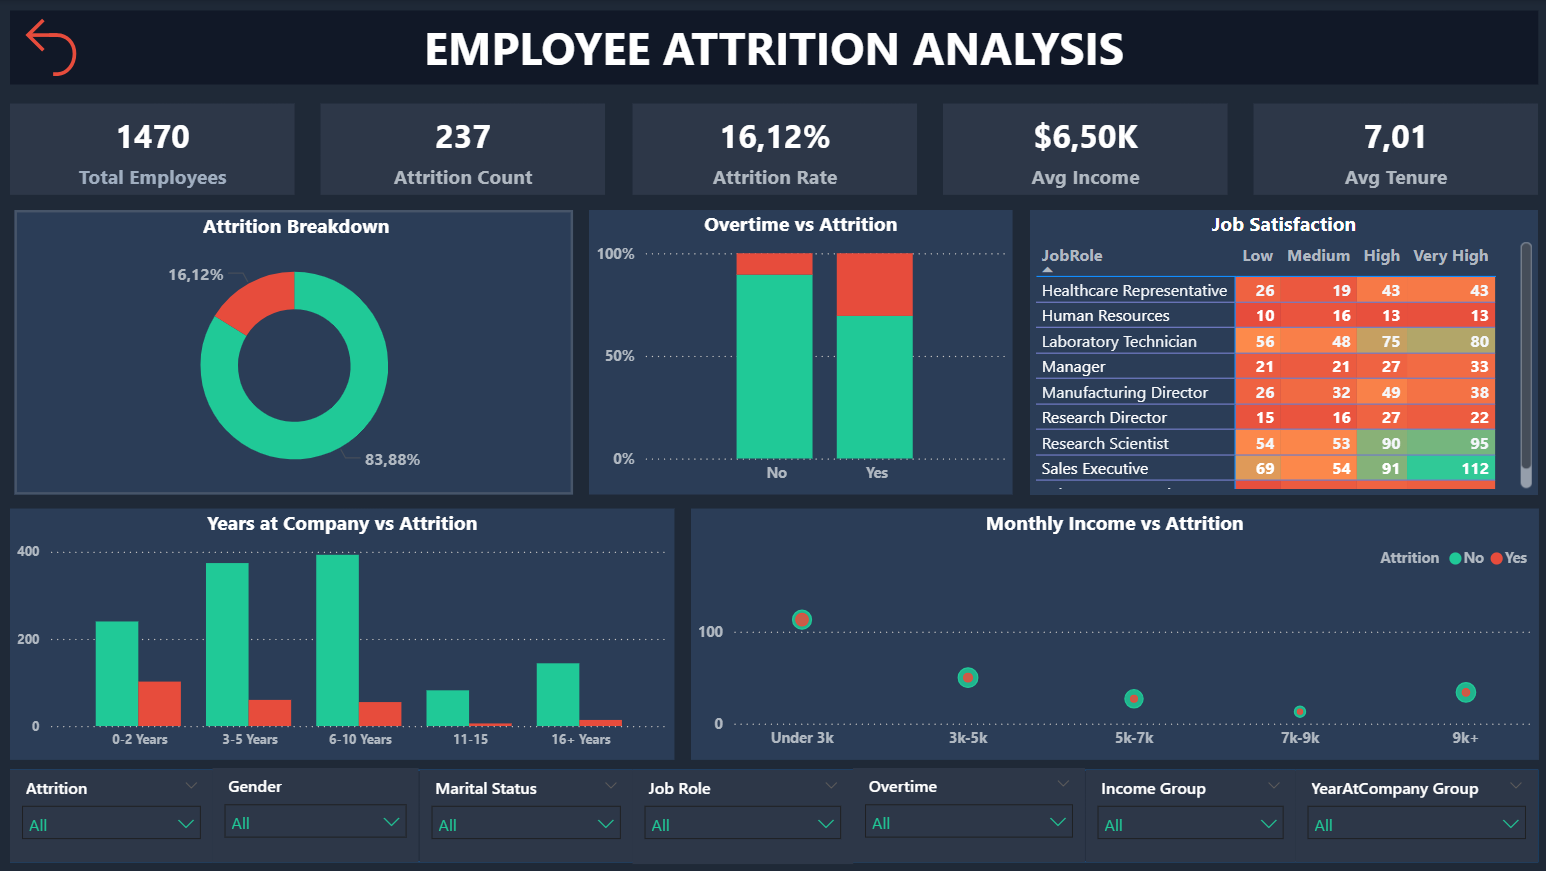

The page's visual inventory and layout, read from the dashboard file:
{"tool":"powerbi","page":{"name":"Main Dashboard","canvas":[1280,720],"ordinal":0},"visuals":[{"type":"shape","box":[9.6,634.4,1260.5,76.6],"z":0},{"type":"card","fields":{"Values":["hr_emp.Total Employees"]},"box":[9.6,85,234.6,75.4],"z":1000},{"type":"card","fields":{"Values":["hr_emp.Attrition Count"]},"box":[266.3,85,234.6,75.4],"z":2000},{"type":"donutChart","title":"Attrition Breakdown","fields":{"Y":["CountNonNull(hr_emp.Attrition)"],"Category":["hr_emp.Attrition"]},"box":[13.2,173.6,460.9,234.6],"z":3000},{"type":"card","fields":{"Values":["hr_emp.Attrition Rate"]},"box":[522.7,85,234.6,75.4],"z":4000},{"type":"hundredPercentStackedColumnChart","title":"Overtime vs Attrition","fields":{"Y":["CountNonNull(hr_emp.Attrition)"],"Series":["hr_emp.Attrition"],"Category":["hr_emp.OverTime"]},"box":[487.2,173.6,349.5,234.6],"z":5000},{"type":"card","fields":{"Values":["hr_emp.Avg Income"]},"box":[779.1,85,234.6,75.4],"z":6000},{"type":"pivotTable","title":"Job Satisfaction","fields":{"Rows":["hr_emp.JobRole"],"Columns":["hr_emp.JobSatisfaction"],"Values":["hr_emp.Total Employees"]},"box":[851.1,173.6,419,234.6],"z":7000},{"type":"card","fields":{"Values":["hr_emp.Avg Tenure"]},"box":[1035.4,85,234.6,75.4],"z":8000},{"type":"clusteredColumnChart","title":"Years at Company vs Attrition","fields":{"Series":["hr_emp.Attrition"],"Y":["CountNonNull(hr_emp.Attrition)"],"Category":["hr_emp.YearAtCompany Group"]},"box":[9.6,419,548.2,207.1],"z":9000},{"type":"scatterChart","title":"Monthly Income vs Attrition","fields":{"X":["hr_emp.Income Group"],"Series":["hr_emp.Attrition"],"Y":["hr_emp.Attrition Count"],"Size":["CountNonNull(hr_emp.Income Group)"]},"box":[571,419,699.1,207.1],"z":10000},{"type":"shape","box":[9.6,8.4,1260.5,61],"z":11000},{"type":"textbox","box":[9.6,8.4,1260.5,61],"z":12000},{"type":"slicer","fields":{"Values":["hr_emp.Attrition"]},"box":[9.6,634.4,167.6,76.6],"z":13000},{"type":"slicer","fields":{"Values":["hr_emp.Gender"]},"box":[177.2,633.2,170,77.8],"z":14000},{"type":"slicer","fields":{"Values":["hr_emp.JobRole"]},"box":[523.1,634.4,181.9,77.8],"z":15000},{"type":"slicer","fields":{"Values":["hr_emp.MaritalStatus"]},"box":[347.1,634.4,176,76.6],"z":16000},{"type":"slicer","fields":{"Values":["hr_emp.OverTime"]},"box":[705,633.2,191.5,77.8],"z":17000},{"type":"slicer","fields":{"Values":["hr_emp.YearAtCompany Group"]},"box":[1070.1,634.4,199.9,76.6],"z":18000},{"type":"slicer","fields":{"Values":["hr_emp.Income Group"]},"box":[896.6,634.4,173.6,76.6],"z":19000},{"type":"actionButton","box":[13.6,8.7,79.2,60.6],"z":20000}]}

Visuals, with their boxes in screenshot pixels (x1, y1, x2, y2), scaled from the page's 1280x720 canvas onto the 1546x871 screenshot:
shape: (12,767,1534,860)
card - hr_emp.Total Employees: (12,103,295,194)
card - hr_emp.Attrition Count: (322,103,605,194)
"Attrition Breakdown" donutChart: (16,210,573,494)
card - hr_emp.Attrition Rate: (631,103,915,194)
"Overtime vs Attrition" hundredPercentStackedColumnChart: (588,210,1011,494)
card - hr_emp.Avg Income: (941,103,1224,194)
"Job Satisfaction" pivotTable: (1028,210,1534,494)
card - hr_emp.Avg Tenure: (1251,103,1534,194)
"Years at Company vs Attrition" clusteredColumnChart: (12,507,674,757)
"Monthly Income vs Attrition" scatterChart: (690,507,1534,757)
shape: (12,10,1534,84)
textbox: (12,10,1534,84)
slicer - hr_emp.Attrition: (12,767,214,860)
slicer - hr_emp.Gender: (214,766,419,860)
slicer - hr_emp.JobRole: (632,767,852,862)
slicer - hr_emp.MaritalStatus: (419,767,632,860)
slicer - hr_emp.OverTime: (852,766,1083,860)
slicer - hr_emp.YearAtCompany Group: (1292,767,1534,860)
slicer - hr_emp.Income Group: (1083,767,1293,860)
actionButton: (16,11,112,84)
